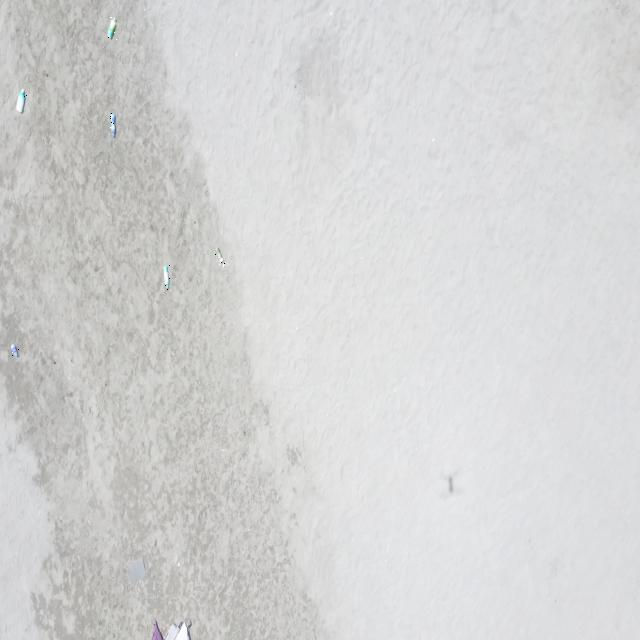plastic-bottle: (15, 86, 27, 115), (161, 264, 172, 292), (214, 245, 226, 268), (107, 16, 117, 41), (110, 112, 116, 138), (11, 344, 19, 358)
